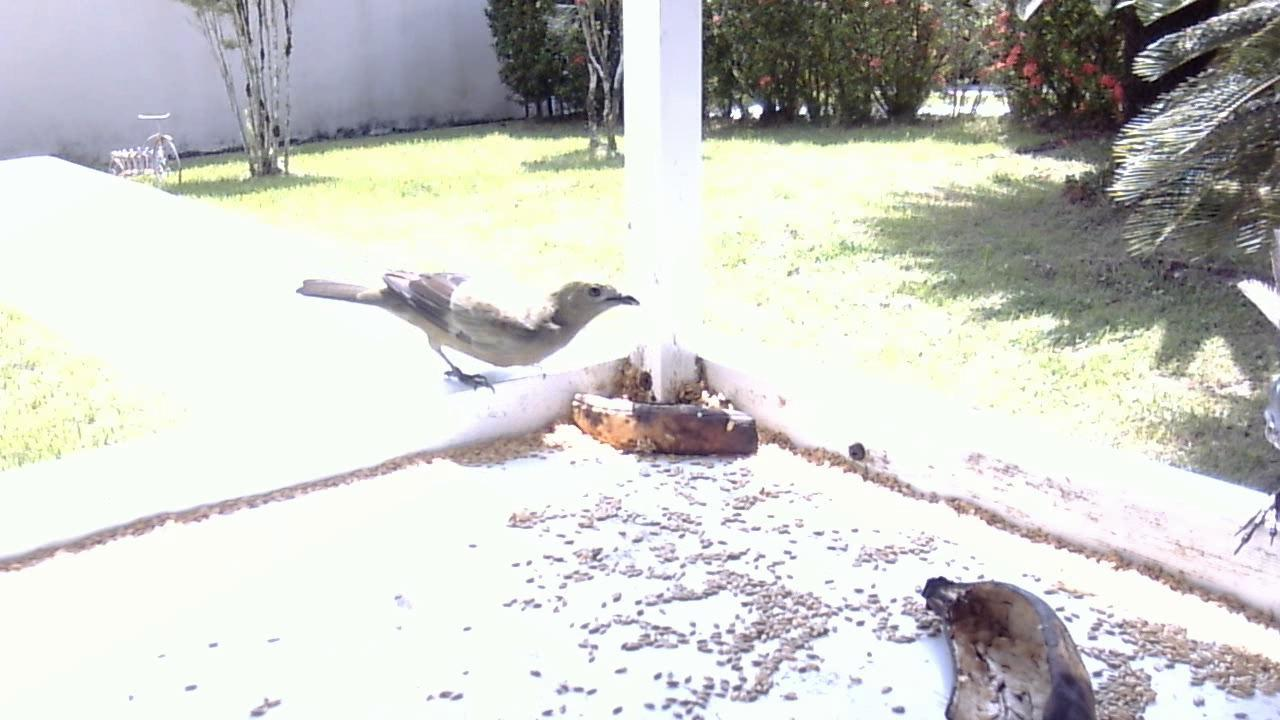sanhaco_do_coqueiro: (285, 263, 628, 408)
